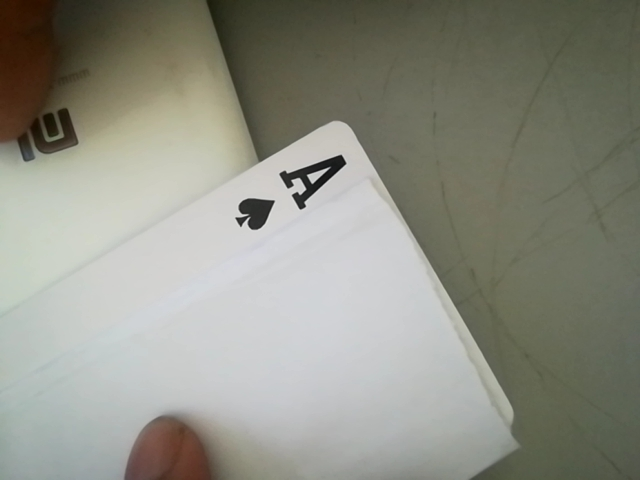ht a: (215, 144, 364, 234)
